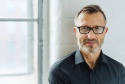male: (72, 7, 105, 57)
